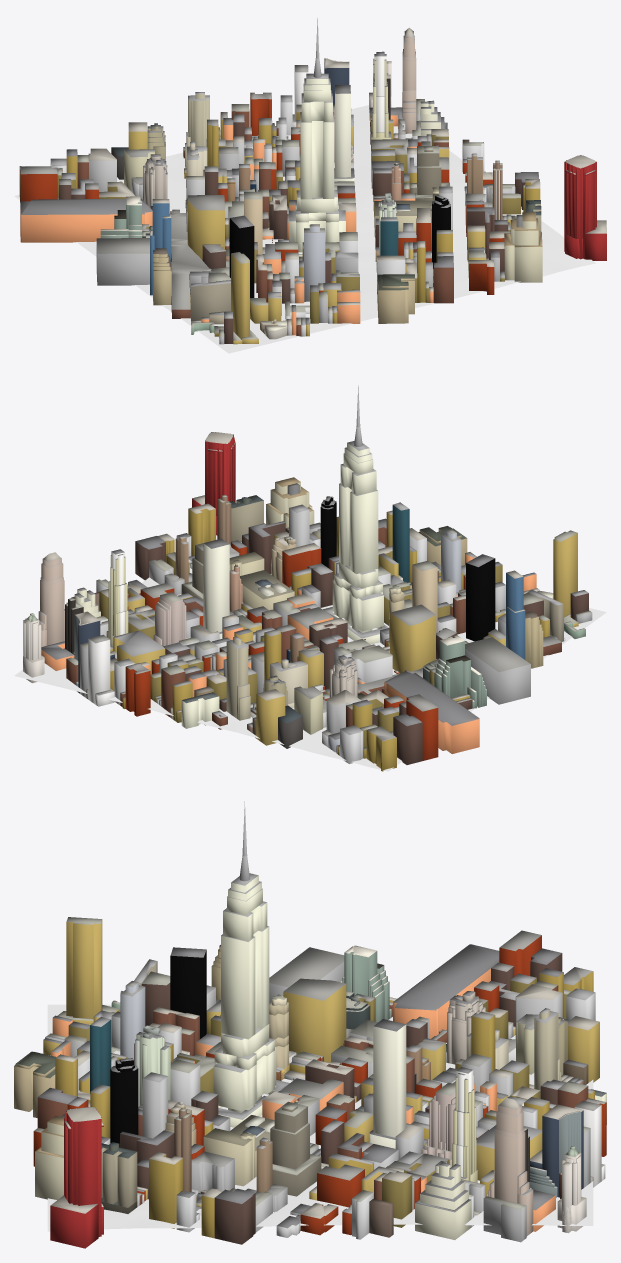
The model's file is city.dae.
3 renders of one model, top to bottom at view 1: azimuth 30°, elevation 25°; view 2: azimuth 150°, elevation 25°; view 3: azimuth 270°, elevation 25°, orthographic. The views are drawn at different scales.
Parts seen in each view (by area): view 1: map.osm_buildings; view 2: map.osm_buildings; view 3: map.osm_buildings.
Part boxes in pixels (bbox=[...]): map.osm_buildings: bbox=[14, 18, 606, 353]; map.osm_buildings: bbox=[14, 385, 606, 771]; map.osm_buildings: bbox=[14, 801, 606, 1248].
Bounding box in the file's own units: 830 × 773 × 443.
